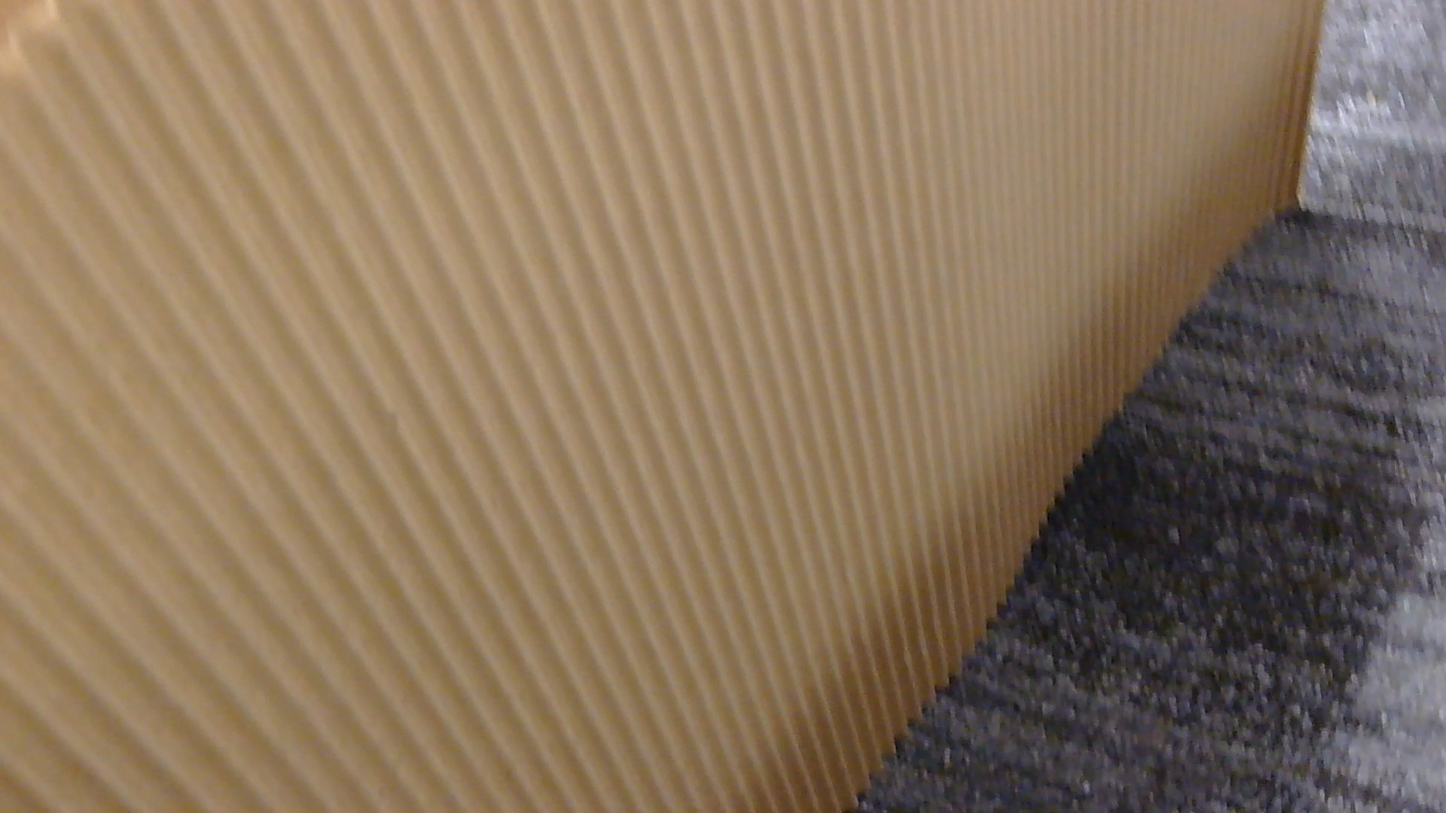Ramp: (0, 0, 1322, 812)
